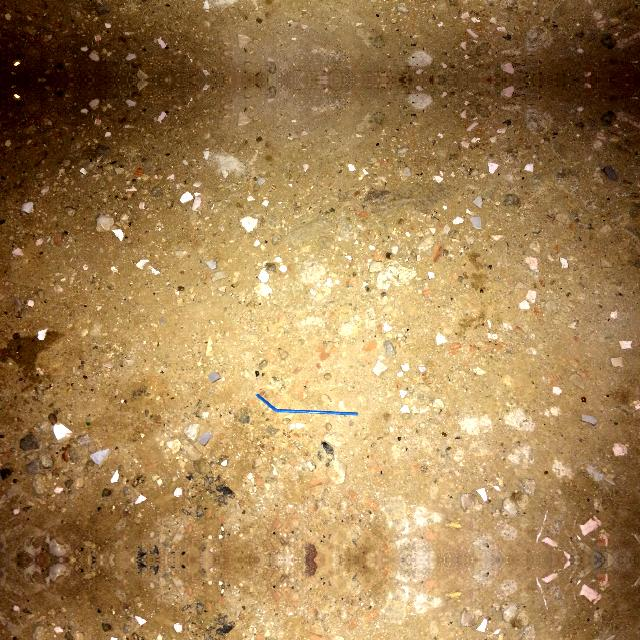Plastic: (254, 392, 360, 420)
